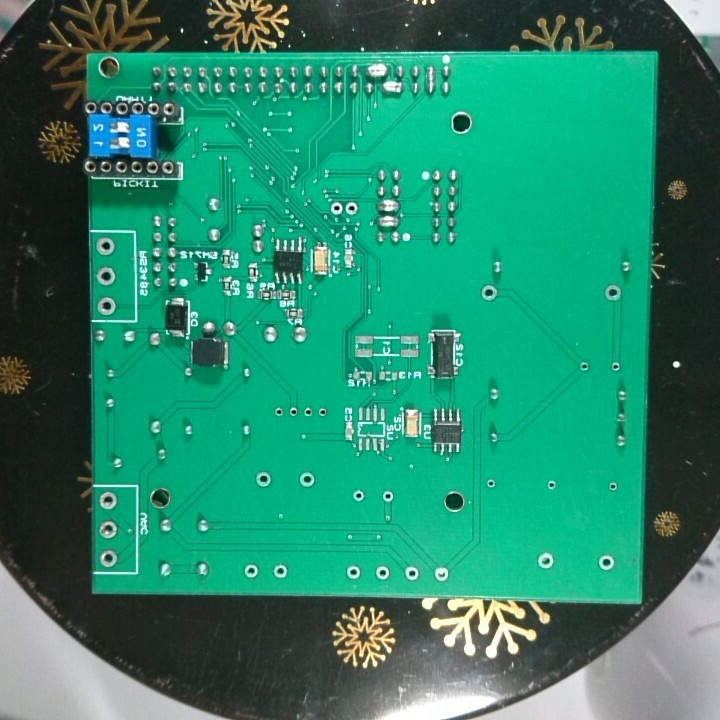F: (94, 235, 117, 258), (97, 489, 119, 512), (95, 265, 117, 287), (98, 548, 121, 569), (96, 295, 117, 317), (534, 550, 557, 570), (479, 282, 500, 303), (297, 470, 318, 491), (240, 561, 261, 582), (253, 469, 275, 489), (597, 552, 616, 575), (98, 519, 118, 540), (603, 283, 622, 304), (431, 565, 452, 584), (271, 560, 290, 581), (344, 563, 363, 583), (402, 564, 421, 583), (373, 565, 393, 583), (379, 488, 397, 506), (343, 199, 359, 219), (350, 488, 367, 506), (328, 200, 344, 218), (315, 404, 329, 423), (300, 404, 315, 421), (577, 358, 591, 375), (287, 404, 300, 421), (271, 404, 285, 419), (609, 359, 622, 375), (484, 476, 497, 492), (545, 478, 558, 493), (607, 479, 619, 493)
P: (423, 61, 439, 99), (364, 61, 391, 79), (374, 213, 402, 229), (381, 78, 405, 96), (374, 198, 401, 213)
